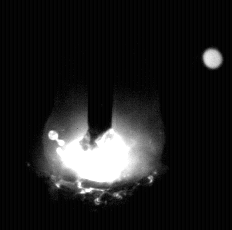arame: (88, 0, 114, 144)
poca: (44, 0, 164, 230)
